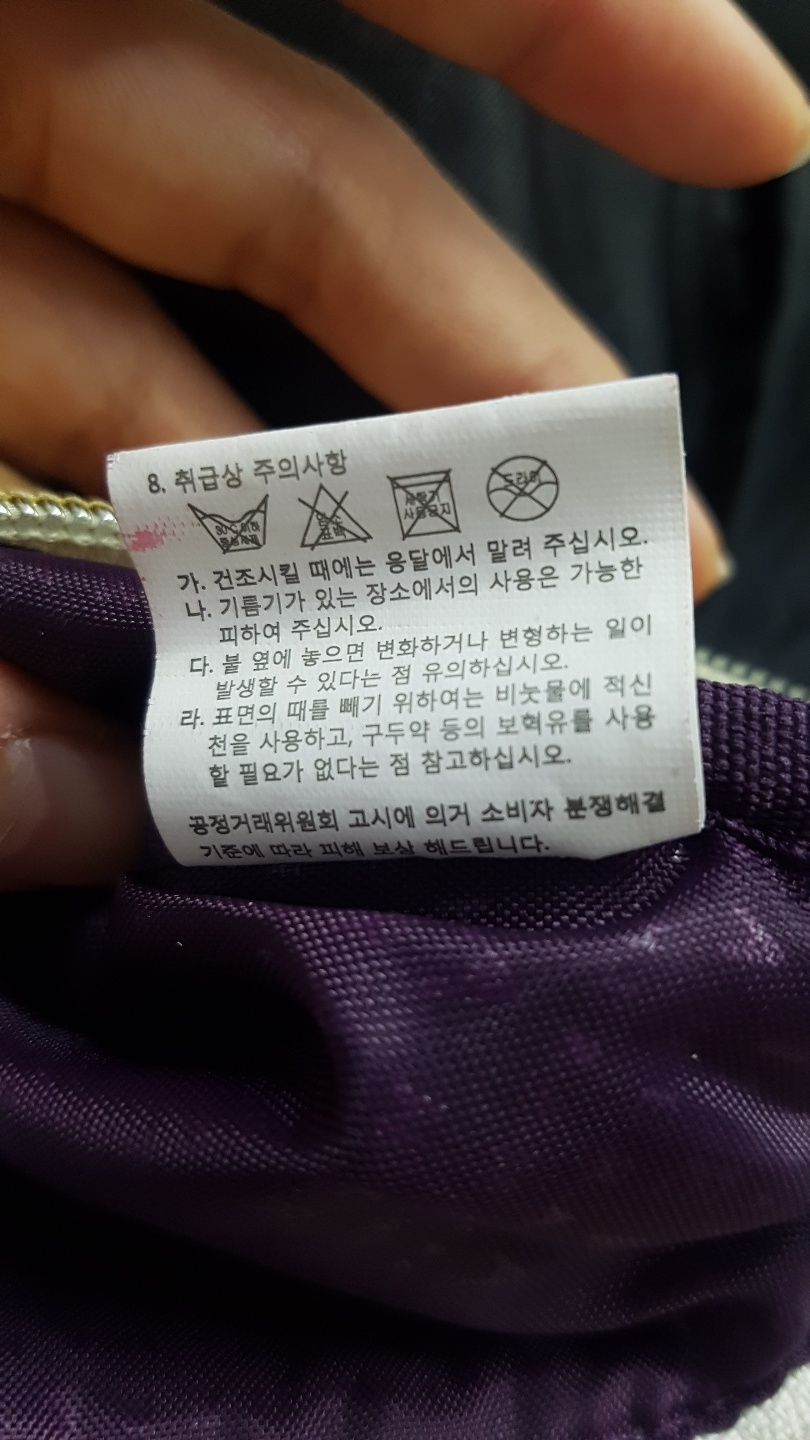do_not_bleach: (288, 483, 381, 551)
do_not_dry_clean: (474, 450, 568, 527)
do_not_wash: (180, 501, 285, 553)
